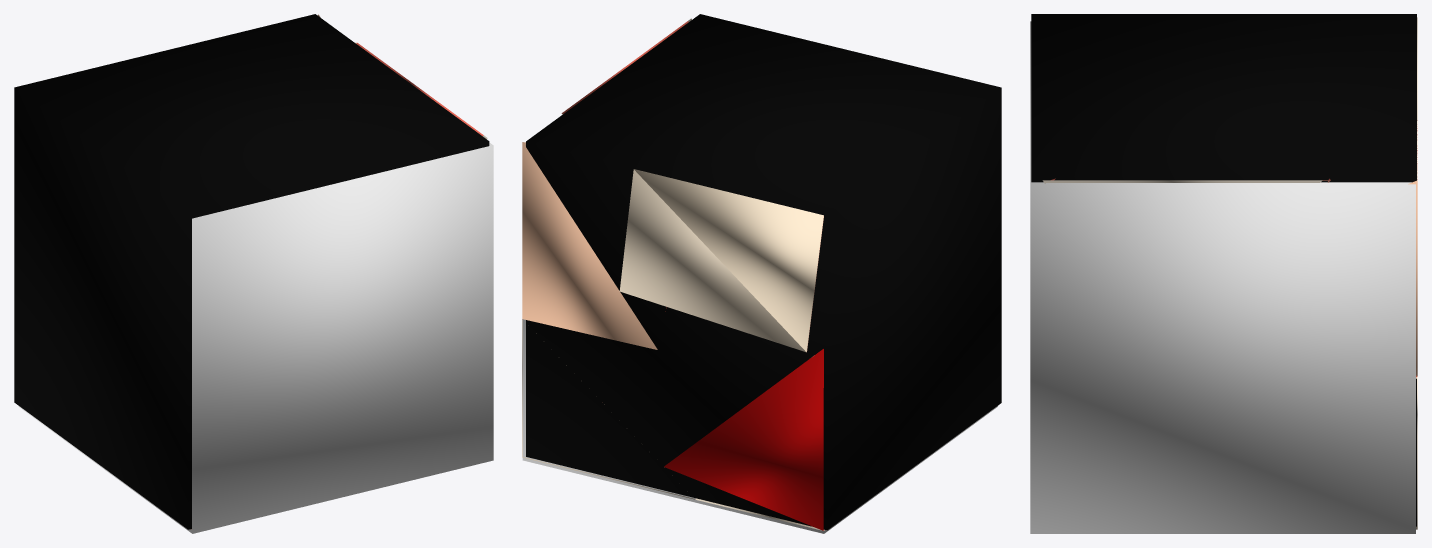
The picture shows the model from 3 angles, left to right: view 1: azimuth 30°, elevation 25°; view 2: azimuth 150°, elevation 25°; view 3: azimuth 270°, elevation 25°; orthographic projection. The views are drawn at different scales.
Visible parts, largest first — view 1: Renderer Node; view 2: Renderer Node; view 3: Renderer Node.
Boxes of the visible parts, left/top/right/bottom form: Renderer Node: left=14, top=14, right=493, bottom=533; Renderer Node: left=522, top=14, right=1001, bottom=533; Renderer Node: left=1030, top=14, right=1417, bottom=533.
Size of the model in its own units: 1.89 by 1.9 by 1.88.
